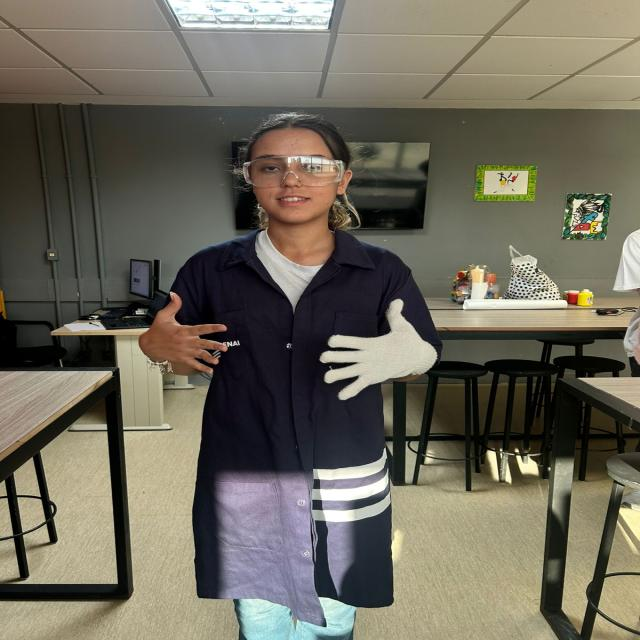oculos-epi: (239, 153, 348, 192)
